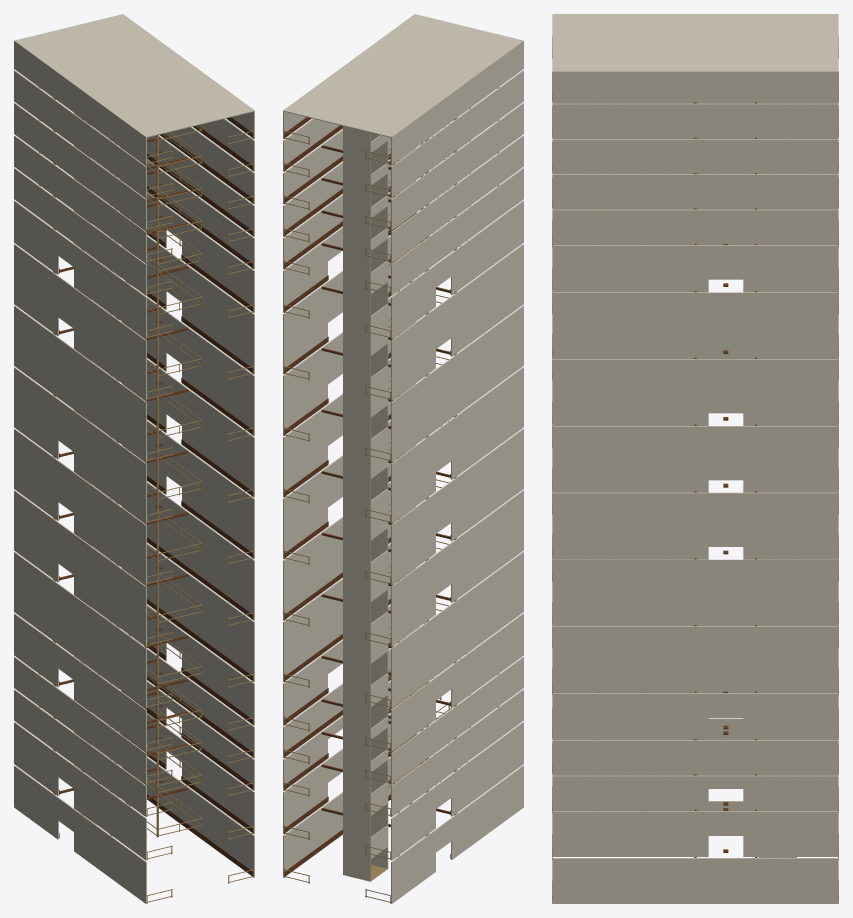
Rendered from AST-CIR-005_aft_celestial_d12.glb.
3 views of the same model, side by side, from view 1: azimuth 30°, elevation 25°; view 2: azimuth 150°, elevation 25°; view 3: azimuth 270°, elevation 25° (orthographic). The views are drawn at different scales.
Visible parts, largest first — view 1: CORE_BATCH_ivory_enamel, CORE_BATCH_champagne_metal, CORE_BATCH_warm_walnut, CORE_OuterWall_01_-1_Solar_Aft, CORE_OuterWall_04_-1_hydration_Aft, CORE_OuterWall_04_1_family_waiting_Aft, CORE_OuterWall_01_1_Inspection_Aft, CORE_OuterWall_02_1_Uniforms_Aft, CORE_OuterWall_04_-1_hydration_Fore, CORE_OuterWall_01_-1_Solar_Fore, CORE_OuterWall_04_1_family_waiting_Fore, CORE_OuterWall_01_1_Inspection_Fore; view 2: CORE_BATCH_ivory_enamel, CORE_BATCH_warm_walnut, CORE_BATCH_champagne_metal, CORE_OuterWall_04_-1_hydration_Aft, CORE_OuterWall_01_-1_Solar_Aft, CORE_OuterWall_01_-1_Solar_Fore, CORE_OuterWall_04_-1_hydration_Fore, CORE_OuterWall_04_1_family_waiting_Fore, CORE_OuterWall_01_1_Inspection_Fore, CORE_OuterWall_02_1_Uniforms_Fore; view 3: CORE_BATCH_ivory_enamel, CORE_OuterWall_01_1_Inspection_Aft, CORE_OuterWall_04_1_family_waiting_Aft, CORE_OuterWall_02_1_Uniforms_Aft, CORE_OuterWall_01_1_Inspection_Fore, CORE_OuterWall_04_1_family_waiting_Fore, CORE_OuterWall_02_1_Uniforms_Fore, CORE_BATCH_champagne_metal, CORE_OuterWall_01_1_Inspection_Header, CORE_OuterWall_04_1_family_waiting_Header.
Boxes of the visible parts, box(x1,y1,x2,y2) form: CORE_BATCH_ivory_enamel: box(14, 14, 254, 903); CORE_BATCH_champagne_metal: box(38, 87, 254, 903); CORE_BATCH_warm_walnut: box(53, 97, 253, 875); CORE_OuterWall_01_-1_Solar_Aft: box(74, 766, 146, 860); CORE_OuterWall_04_-1_hydration_Aft: box(74, 657, 146, 751); CORE_OuterWall_04_1_family_waiting_Aft: box(182, 631, 254, 725); CORE_OuterWall_01_1_Inspection_Aft: box(182, 739, 254, 833); CORE_OuterWall_02_1_Uniforms_Aft: box(182, 707, 254, 790); CORE_OuterWall_04_-1_hydration_Fore: box(14, 613, 58, 687); CORE_OuterWall_01_-1_Solar_Fore: box(14, 722, 58, 795); CORE_OuterWall_04_1_family_waiting_Fore: box(147, 605, 166, 660); CORE_OuterWall_01_1_Inspection_Fore: box(147, 714, 166, 769); CORE_BATCH_ivory_enamel: box(283, 14, 523, 903); CORE_BATCH_warm_walnut: box(284, 117, 456, 875); CORE_BATCH_champagne_metal: box(283, 87, 499, 903); CORE_OuterWall_04_-1_hydration_Aft: box(451, 613, 523, 707); CORE_OuterWall_01_-1_Solar_Aft: box(451, 722, 523, 816); CORE_OuterWall_01_-1_Solar_Fore: box(391, 786, 435, 860); CORE_OuterWall_04_-1_hydration_Fore: box(391, 678, 435, 751); CORE_OuterWall_04_1_family_waiting_Fore: box(283, 651, 327, 725); CORE_OuterWall_01_1_Inspection_Fore: box(283, 760, 327, 833); CORE_OuterWall_02_1_Uniforms_Fore: box(283, 727, 327, 790); CORE_BATCH_ivory_enamel: box(552, 14, 838, 903); CORE_OuterWall_01_1_Inspection_Aft: box(552, 811, 708, 856); CORE_OuterWall_04_1_family_waiting_Aft: box(552, 693, 708, 738); CORE_OuterWall_02_1_Uniforms_Aft: box(552, 775, 708, 809); CORE_OuterWall_01_1_Inspection_Fore: box(743, 811, 838, 856); CORE_OuterWall_04_1_family_waiting_Fore: box(743, 693, 838, 738); CORE_OuterWall_02_1_Uniforms_Fore: box(743, 775, 838, 809); CORE_BATCH_champagne_metal: box(552, 36, 838, 902); CORE_OuterWall_01_1_Inspection_Header: box(708, 811, 743, 835); CORE_OuterWall_04_1_family_waiting_Header: box(708, 693, 743, 717).
Size of the model in its own units: 15.76 by 106 by 33.08.
Materials: 4 (3 with a texture image).
